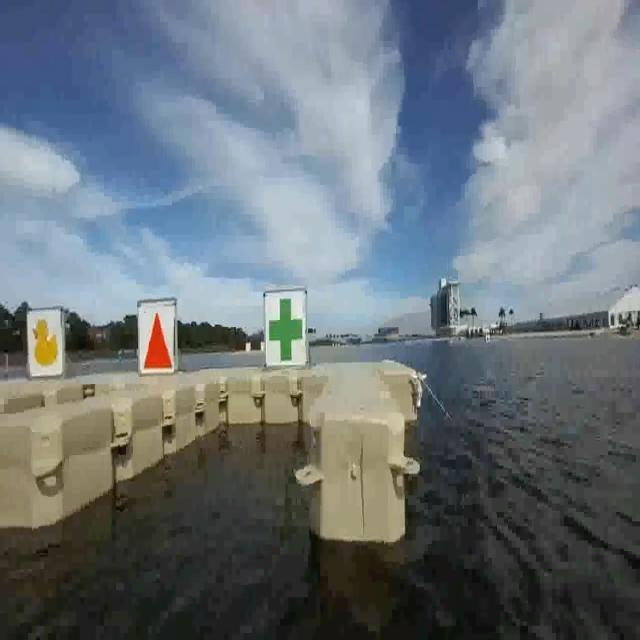blue-cross: (267, 298, 304, 368)
red-dot: (137, 298, 174, 375)
yellow-duck: (32, 316, 58, 368)
